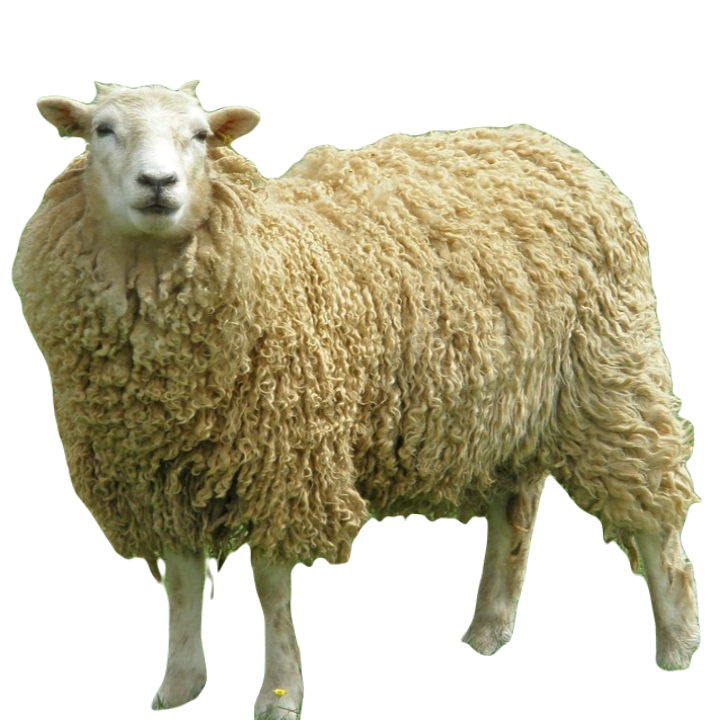Sheep: (8, 74, 705, 719)
